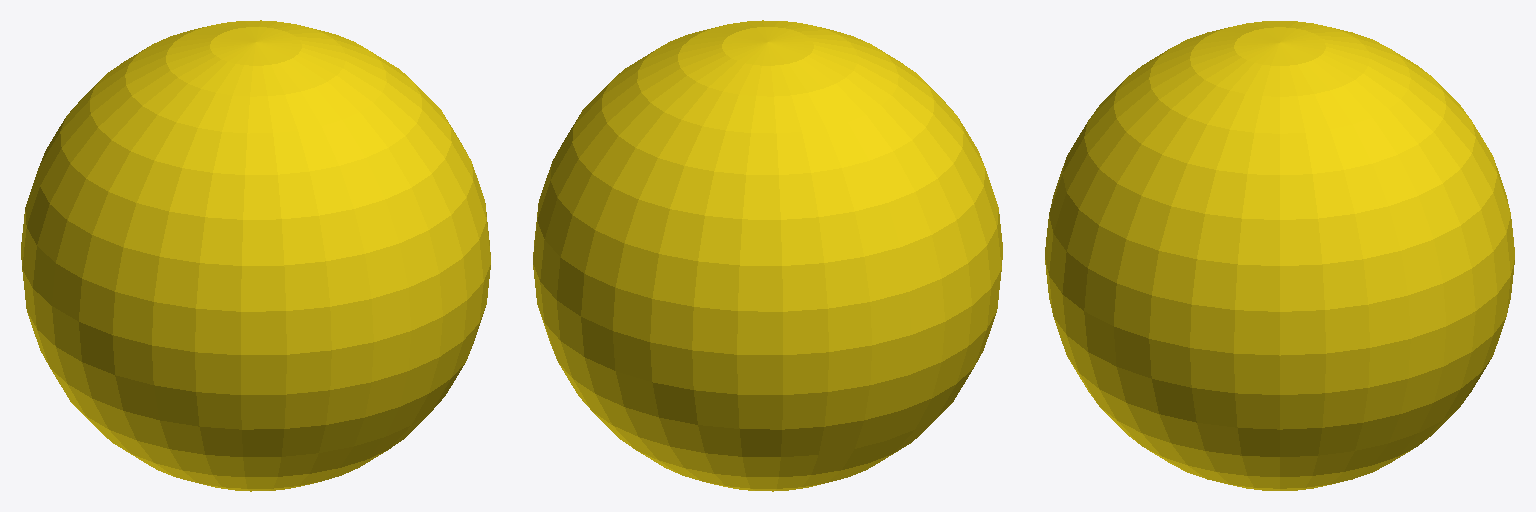
The robot description file, URDF, robot "yellow_sphere":
<?xml version="1.0"?>
<robot name="yellow_sphere">
  <link name="base_link">
    <contact>
      <lateral_friction value="0.9"/>
      <rolling_friction value="0.08"/>
      <spinning_friction value="0.06"/>
      <restitution value="0.0"/>
    </contact>
    <inertial>
      <origin rpy="0 0 0" xyz="0 0 0"/>
      <mass value="0.5"/>
      <inertia ixx="0.001" ixy="0" ixz="0" iyy="0.001" iyz="0" izz="0.001"/>
    </inertial>
    <visual>
      <origin rpy="0 0 0" xyz="0 0 0"/>
      <geometry>
        <sphere radius="0.06"/>
      </geometry>
      <material name="yellow">
        <color rgba="0.950 0.850 0.120 1.000"/>
      </material>
    </visual>
    <collision>
      <origin rpy="0 0 0" xyz="0 0 0"/>
      <geometry>
        <sphere radius="0.06"/>
      </geometry>
    </collision>
  </link>
</robot>

--- Render facts (derived) ---
The picture shows the robot from 3 angles, left to right: view 1: azimuth 30°, elevation 25°; view 2: azimuth 150°, elevation 25°; view 3: azimuth 270°, elevation 25°; orthographic projection.
Robot: yellow_sphere — 1 links, 0 joints (none); root link base_link; default pose: every joint at zero.
Visible links, largest first — view 1: base_link; view 2: base_link; view 3: base_link.
Link boxes in pixels (x1,y1,x2,y2): base_link: [21, 20, 490, 491]; base_link: [533, 20, 1002, 491]; base_link: [1045, 21, 1514, 490].
Bounding box of the posed robot: 0.12 × 0.12 × 0.12 m (x, y, z).
Geometry: primitives only (box / cylinder / sphere), no mesh files.
